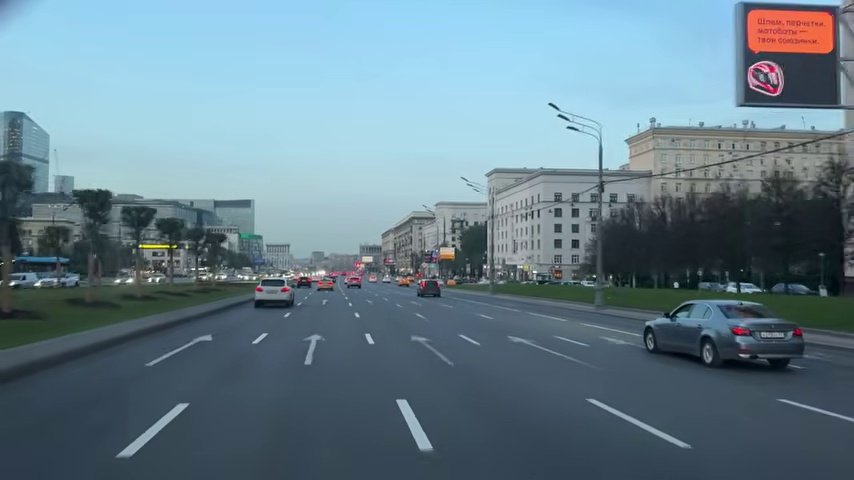apagada: (544, 100, 576, 134), (545, 112, 579, 136), (544, 99, 571, 120)
